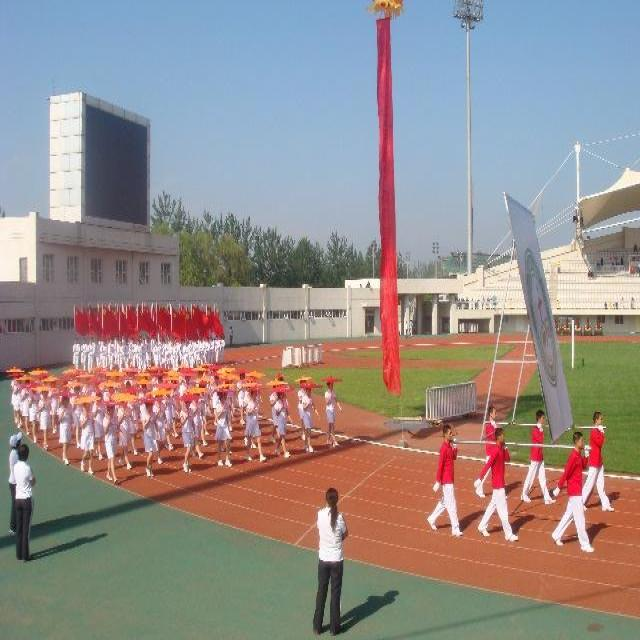non-fight: (307, 486, 349, 638), (475, 407, 515, 542), (432, 421, 462, 536), (9, 442, 36, 562), (521, 407, 553, 504), (176, 375, 200, 472), (268, 393, 291, 460)
